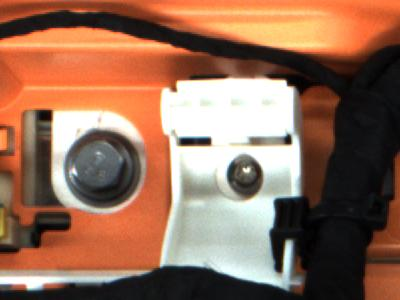nut_b: (57, 129, 157, 204)
